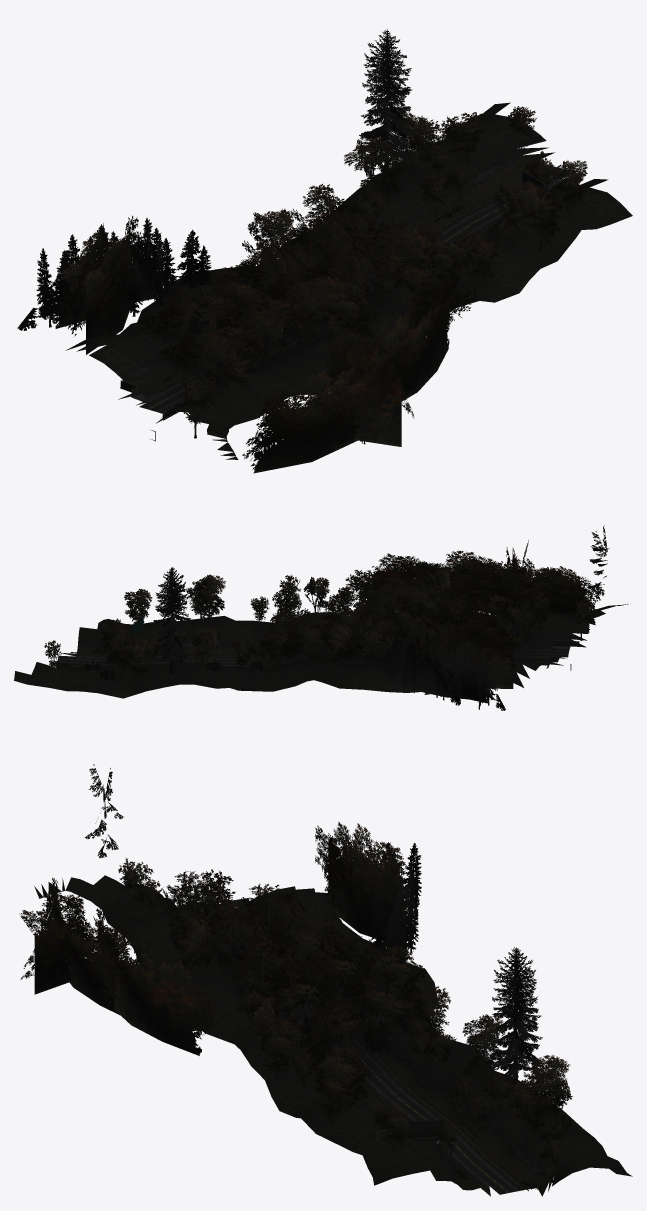
The model's file is cell_5_-15.gltf.
3 views of the same model, one above another, from view 1: azimuth 30°, elevation 25°; view 2: azimuth 150°, elevation 25°; view 3: azimuth 270°, elevation 25° (orthographic). The views are drawn at different scales.
Parts seen in each view (by area): view 1: cell_5_-15; view 2: cell_5_-15; view 3: cell_5_-15.
Part boxes in pixels (<box>): cell_5_-15: <box>17,29,632,473</box>; cell_5_-15: <box>14,525,627,710</box>; cell_5_-15: <box>19,764,632,1196</box>.
Size of the model in its own units: 273 by 87.93 by 254.
Materials: 42 (42 with a texture image).
